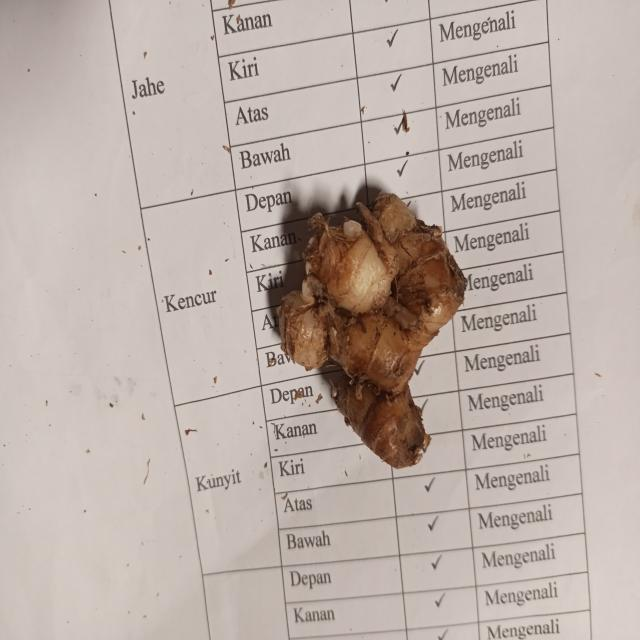ginger: (292, 197, 452, 456)
